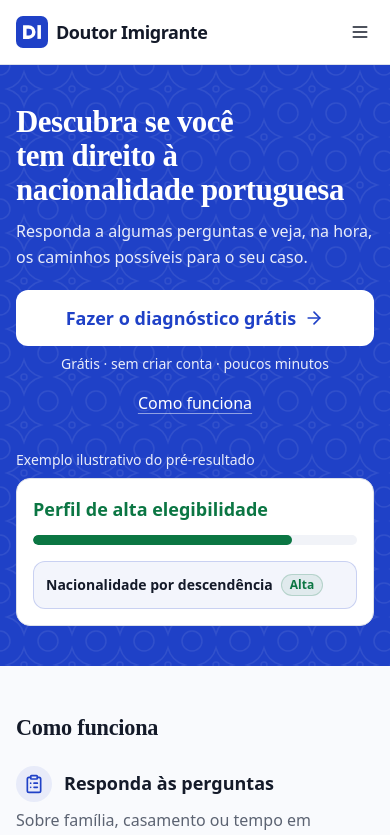
Test: menu do celular › alterna aria-expanded e controla o painel do menu
Click the button named "Abrir menu": x=360, y=32 [338,10,382,54]
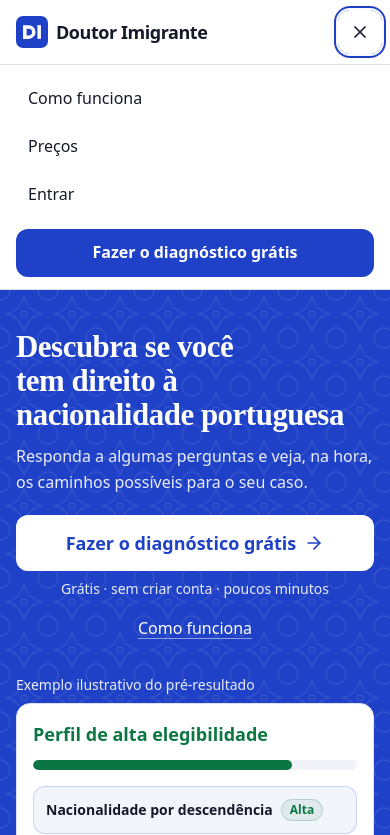
Expected: the button named "Fechar menu" is expanded
Click the button named "Fechar menu": x=360, y=32 [338,10,382,54]
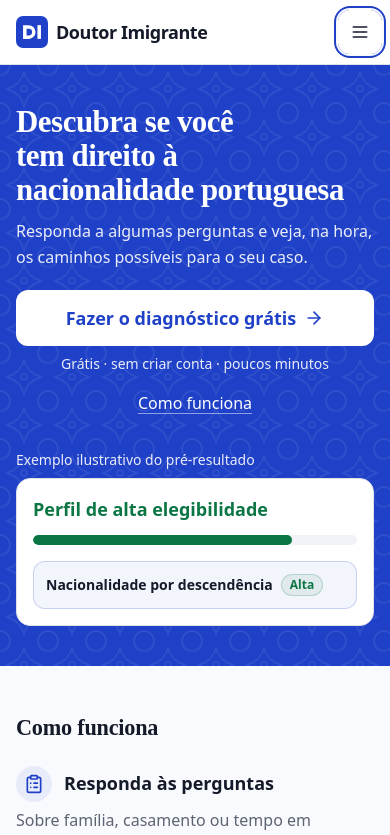
Expected: the button named "Abrir menu" is collapsed, [338,10,382,54]
